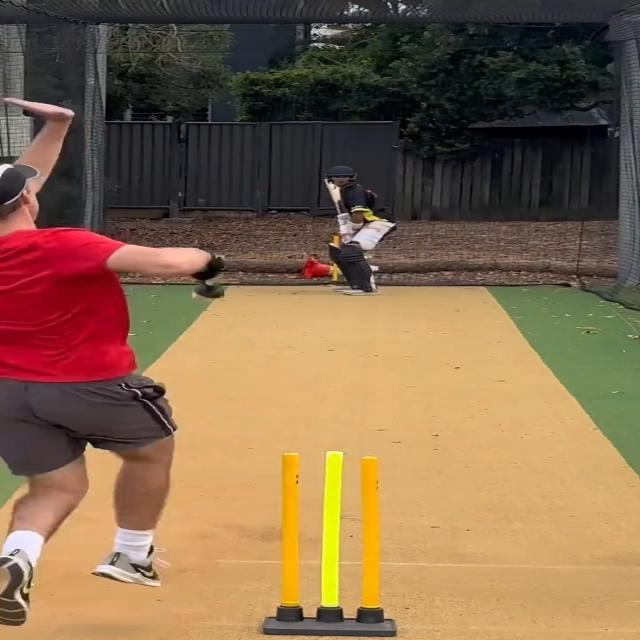stump: (268, 454, 393, 638)
